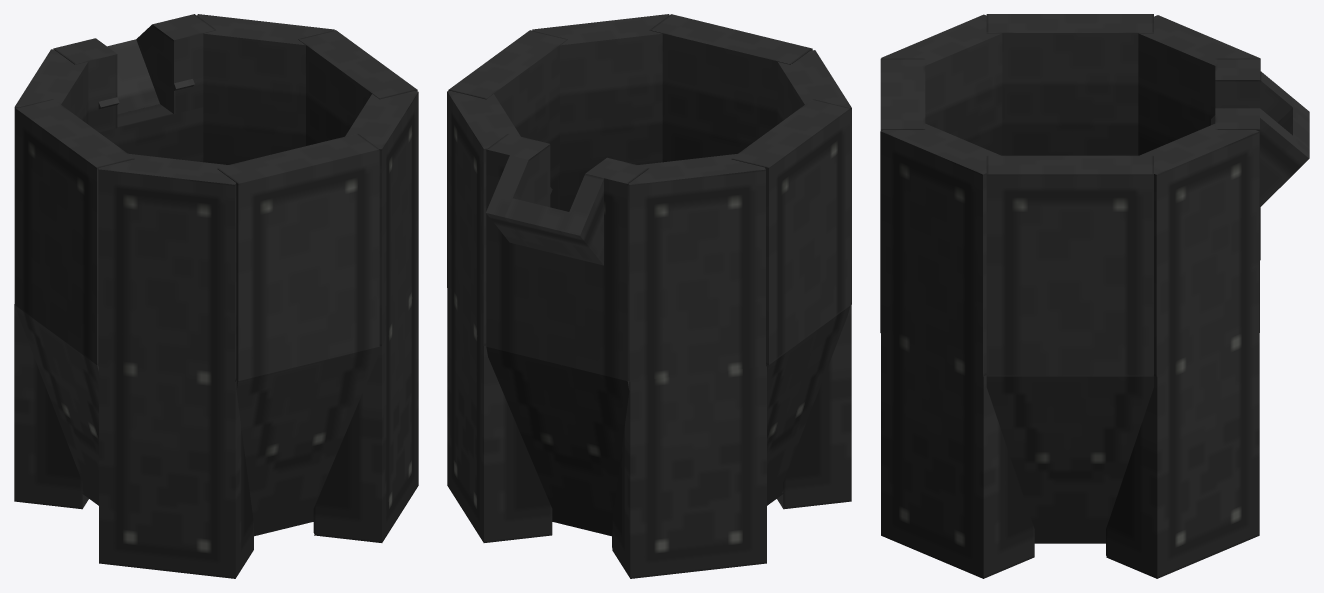
Rendered from Crucible.fbx.
The picture shows the model from 3 angles, left to right: view 1: azimuth 30°, elevation 25°; view 2: azimuth 150°, elevation 25°; view 3: azimuth 270°, elevation 25°; orthographic projection. The views are drawn at different scales.
Visible parts, largest first — view 1: cube_12, cube_18, cube_21, cube_14, cube_13, cube_19, cube_1, cube_20, cube_17, cube_9, cube_15, cube_3 (+5 smaller); view 2: cube_16, cube_17, cube_14, cube, cube_11, cube_20, cube_12, cube_2, cube_1, cube_21, cube_9, cube_15 (+6 smaller); view 3: cube_9, cube_2, cube_19, cube_20, cube_1, cube_14, cube_10, cube_16, cube_18, cube_12, cube_6, cube_4 (+3 smaller).
Part boxes in pixels (x1,y1,x2,y2): cube_12: (217, 133, 379, 380); cube_18: (98, 153, 236, 381); cube_21: (99, 366, 253, 578); cube_14: (15, 99, 134, 364); cube_13: (235, 347, 379, 536); cube_19: (313, 289, 418, 542); cube_1: (197, 14, 334, 164); cube_20: (345, 91, 418, 345); cube_17: (14, 304, 88, 509); cube_9: (298, 30, 417, 145); cube_15: (15, 305, 98, 505); cube_3: (152, 14, 215, 113); cube_16: (627, 154, 765, 381); cube_17: (612, 365, 766, 578); cube_14: (731, 99, 850, 364); cube: (486, 223, 628, 380); cube_11: (486, 347, 629, 536); cube_20: (532, 14, 669, 211); cube_12: (649, 14, 812, 162); cube_2: (447, 289, 552, 542); cube_1: (447, 91, 520, 345); cube_21: (777, 304, 851, 509); cube_9: (448, 30, 567, 209); cube_15: (766, 306, 850, 505); cube_9: (986, 155, 1153, 376); cube_2: (1106, 333, 1259, 578); cube_19: (881, 333, 1034, 578); cube_20: (880, 123, 1000, 376); cube_1: (1140, 124, 1259, 376); cube_14: (986, 14, 1153, 155); cube_10: (986, 376, 1153, 543); cube_16: (1138, 15, 1260, 260); cube_18: (881, 14, 1002, 155); cube_12: (880, 58, 925, 130); cube_6: (1260, 108, 1309, 206); cube_4: (1215, 58, 1259, 108).
Bounding box in the file's own units: 425 × 500 × 480.
